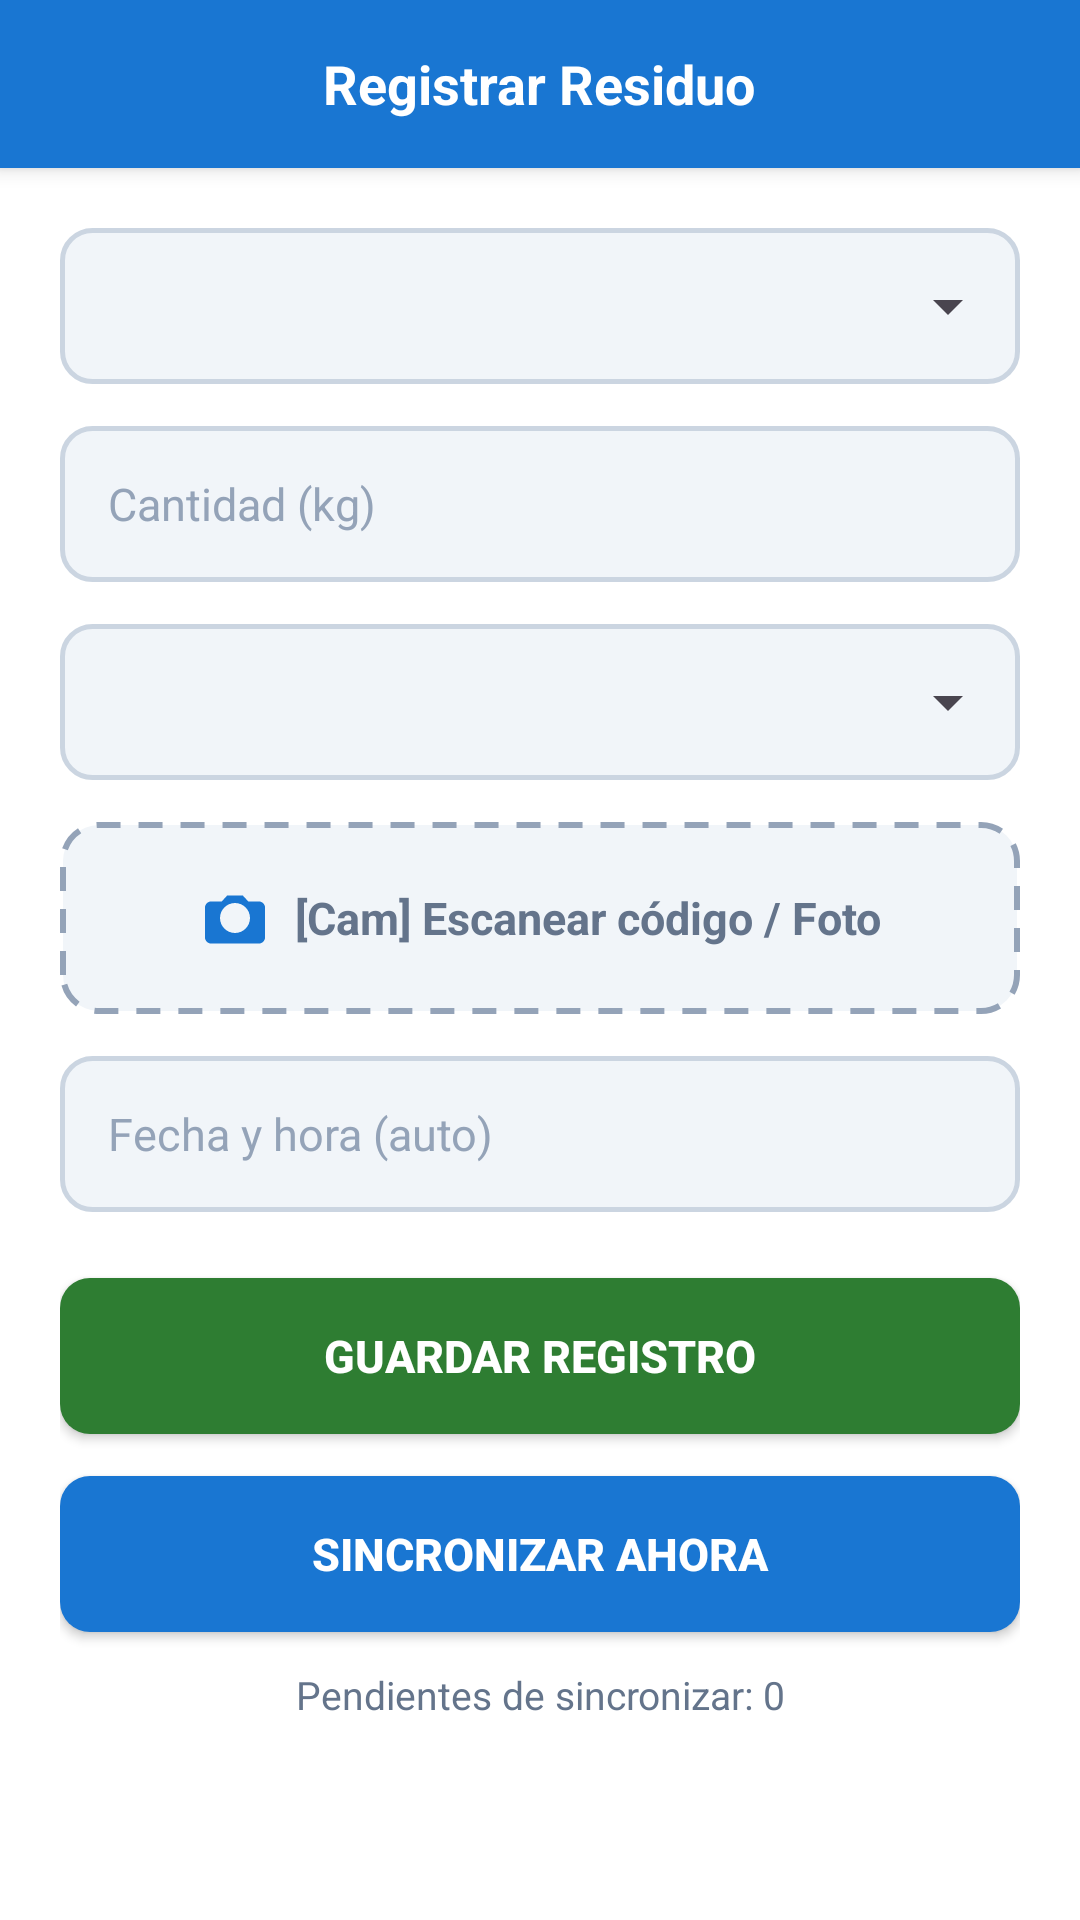

Named icons in this screenshot (1080px×1920px) and their bounding boxes, (x1, y1, x2, y2):
camera: (205, 895, 265, 944)
